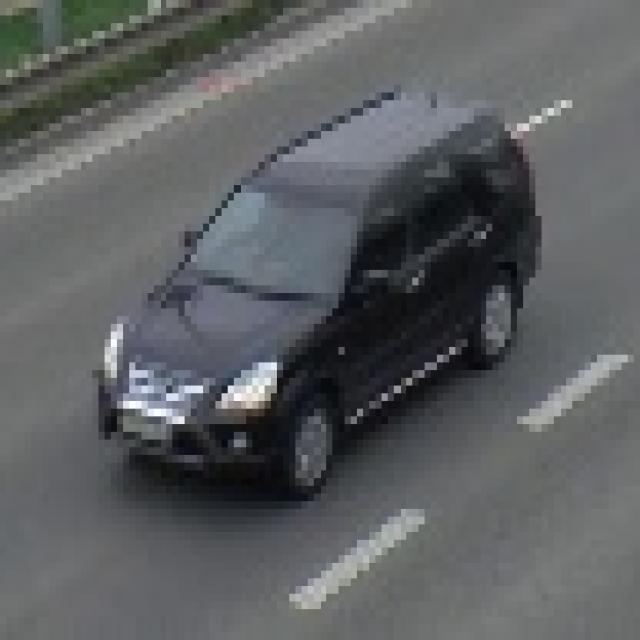SUV: (110, 102, 538, 492)
